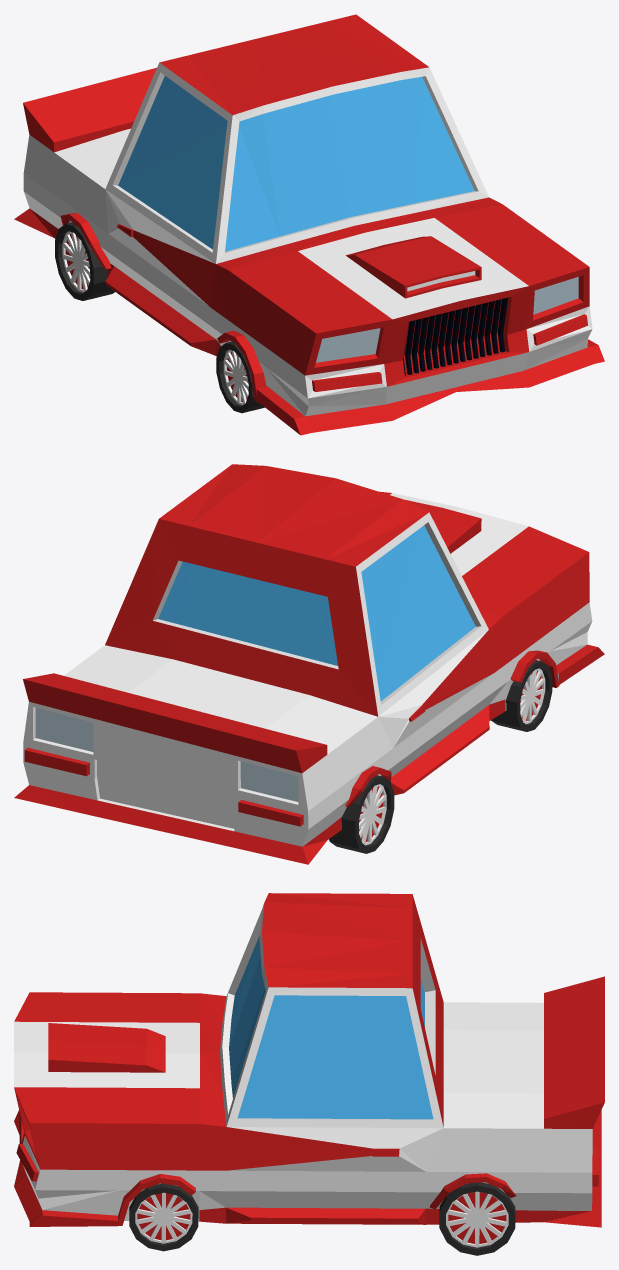
The model's file is car2.obj.
3 renders of one model, top to bottom at view 1: azimuth 30°, elevation 25°; view 2: azimuth 150°, elevation 25°; view 3: azimuth 270°, elevation 25°, orthographic.
Visible parts, largest first — view 1: backlight_ID75; view 2: backlight_ID75; view 3: backlight_ID75.
Boxes of the visible parts, x1=… form: backlight_ID75: x1=14, y1=14, x2=604, y2=435; backlight_ID75: x1=14, y1=464, x2=604, y2=864; backlight_ID75: x1=14, y1=893, x2=604, y2=1255.
Bounding box in the file's own units: 1.38 × 1.11 × 2.36.
